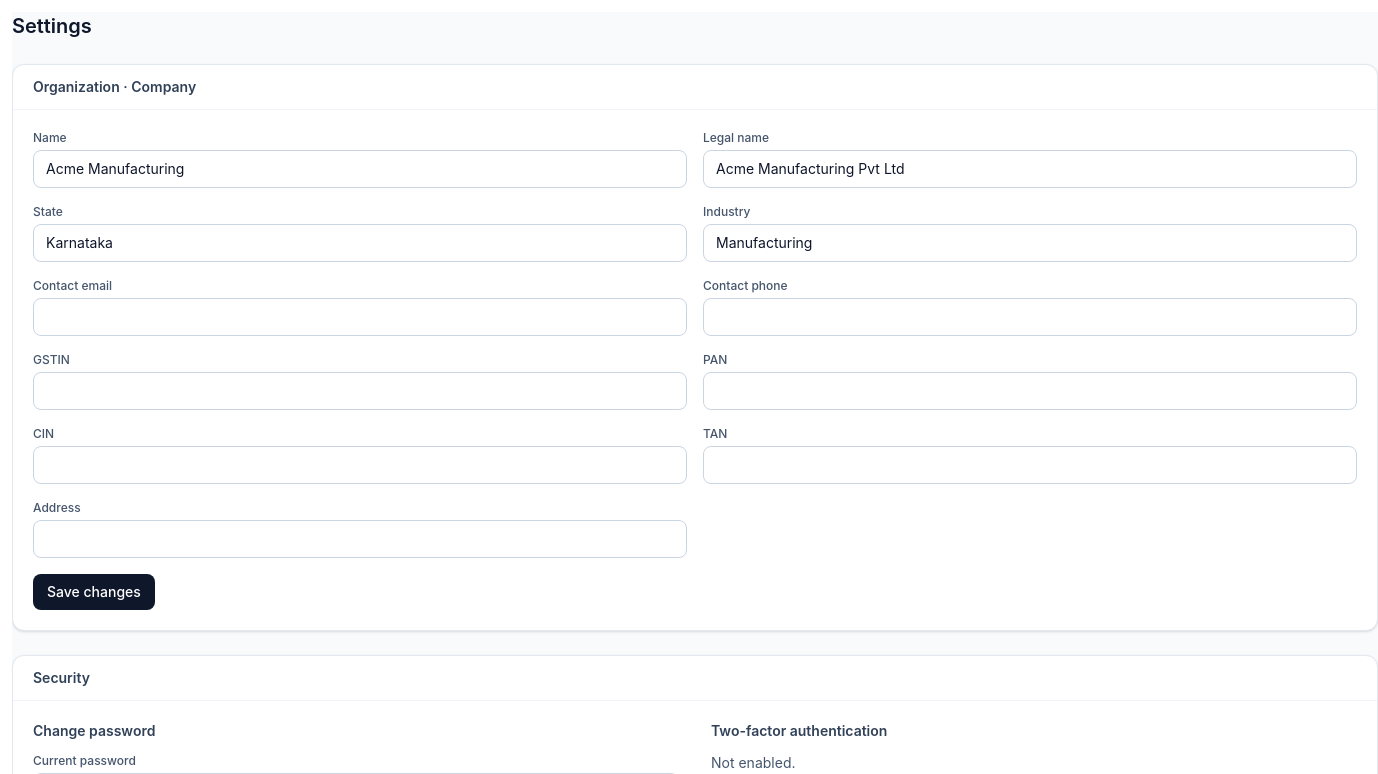
Test case: SettingsPage › OrganizationCard › shows the server's error message when saving fails
Expected: the field labelled "Name" is shown, 33,150 -> 687,188
Click the button "Save changes". click: (94, 592)
box: 33,574 -> 155,610
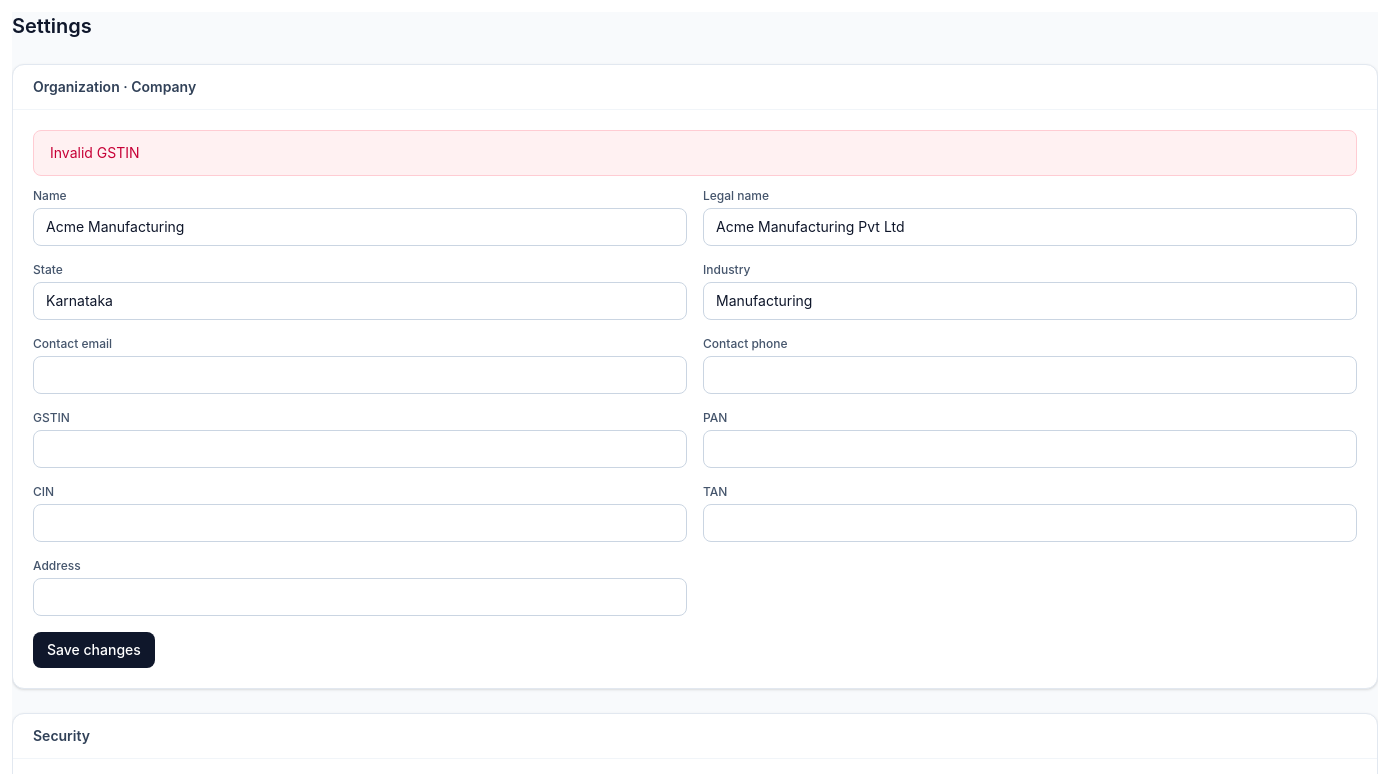
Now the text "Invalid GSTIN" is shown, box 33,130 -> 1357,176
